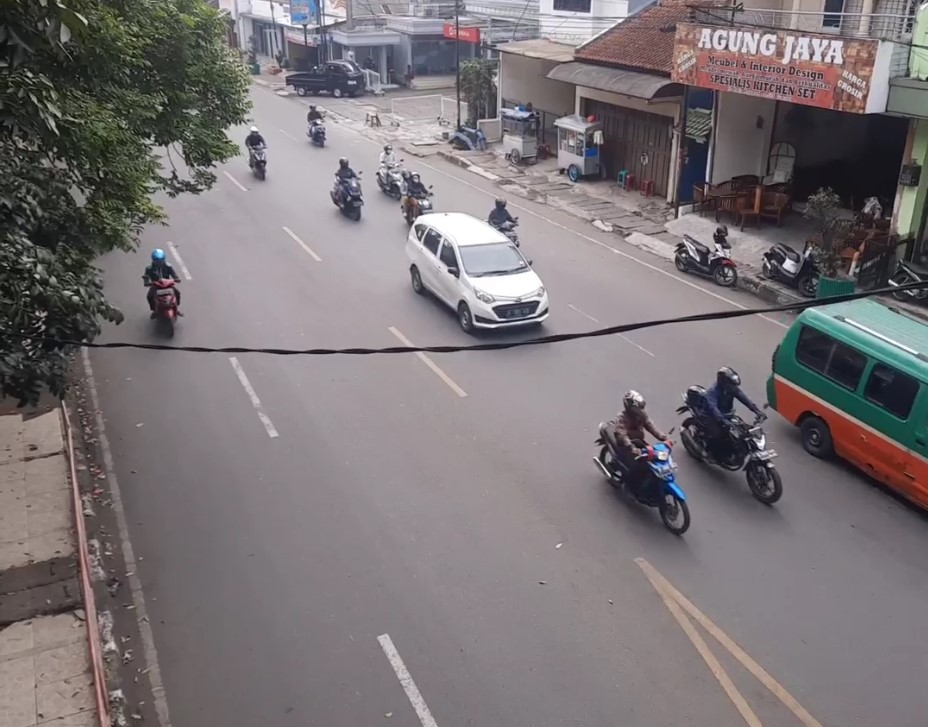mobil: (449, 238, 547, 334)
motor: (595, 389, 700, 535), (678, 366, 786, 506), (142, 249, 183, 333), (330, 154, 369, 223), (400, 171, 432, 221), (244, 128, 274, 180)
